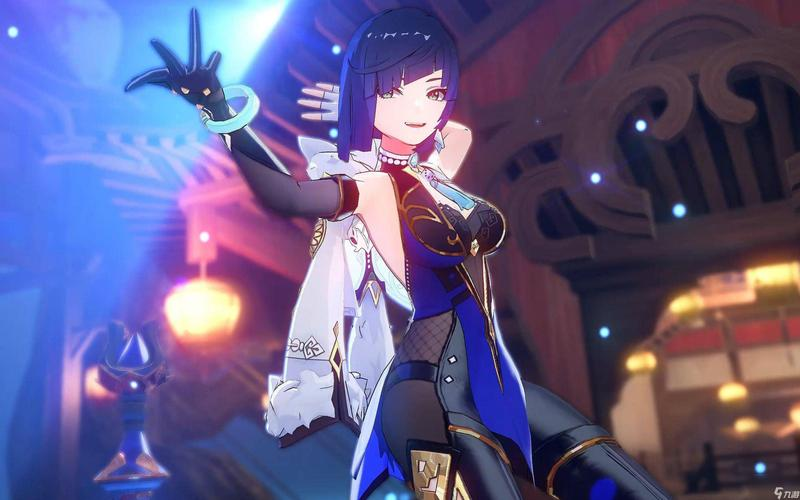夜兰: (107, 4, 541, 500)
